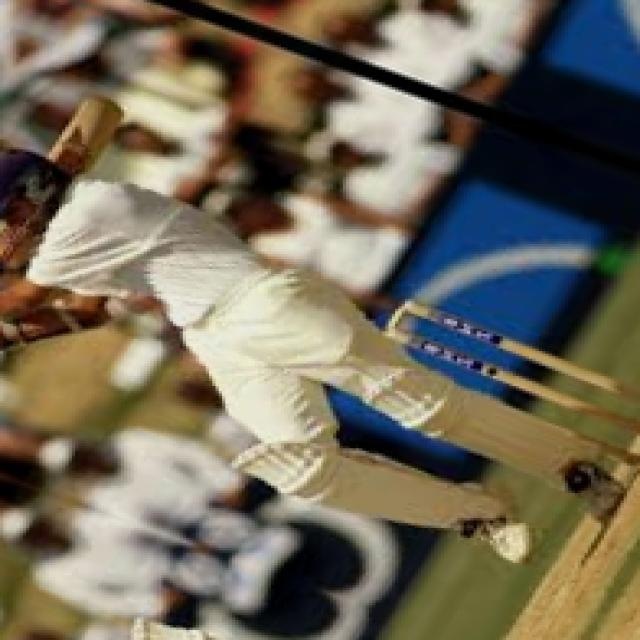toe: (76, 91, 136, 119)
